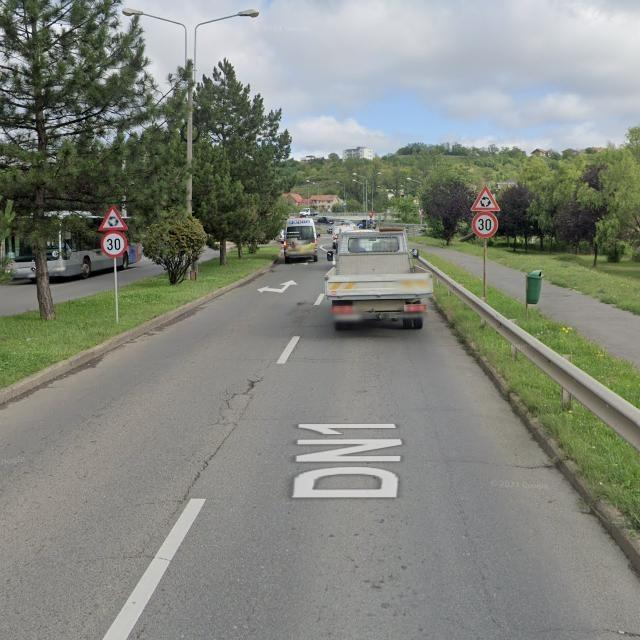forb_speed_over_30: (101, 232, 127, 258), (472, 212, 498, 237)
